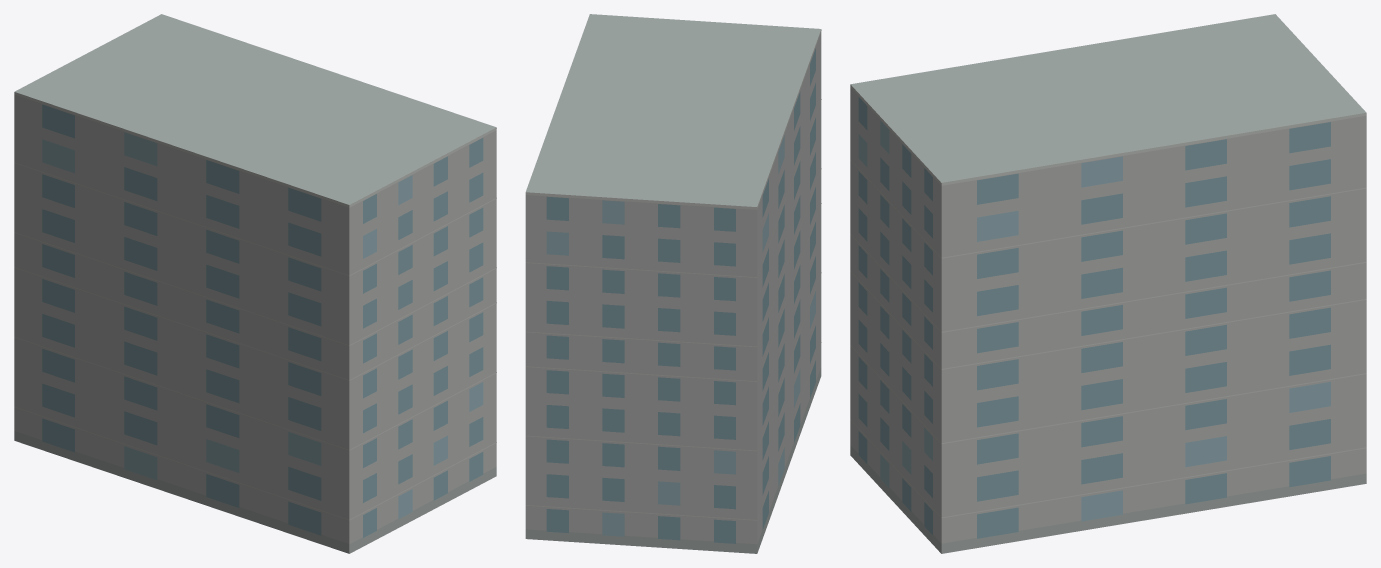
Rendered from residential-bac4c058-3164-4f60-b46f-e38a7ac43e86.glb.
3 renders of one model, left to right at view 1: azimuth 30°, elevation 25°; view 2: azimuth 150°, elevation 25°; view 3: azimuth 270°, elevation 25°, orthographic. The views are drawn at different scales.
Visible parts, largest first — view 1: residential-bac4c058-3164-4f60-b46f-e38a7ac43e86.tmp; view 2: residential-bac4c058-3164-4f60-b46f-e38a7ac43e86.tmp; view 3: residential-bac4c058-3164-4f60-b46f-e38a7ac43e86.tmp.
Part boxes in pixels (bbox=[...]): residential-bac4c058-3164-4f60-b46f-e38a7ac43e86.tmp: bbox=[14, 14, 496, 553]; residential-bac4c058-3164-4f60-b46f-e38a7ac43e86.tmp: bbox=[525, 14, 821, 553]; residential-bac4c058-3164-4f60-b46f-e38a7ac43e86.tmp: bbox=[850, 14, 1366, 553].
Bounding box in the file's own units: 29.8 × 30.5 × 38.49.
